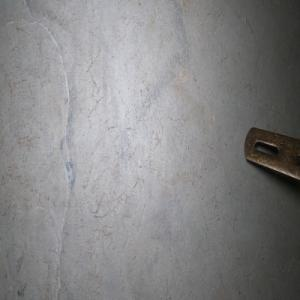MetalPart: (243, 125, 300, 183)
